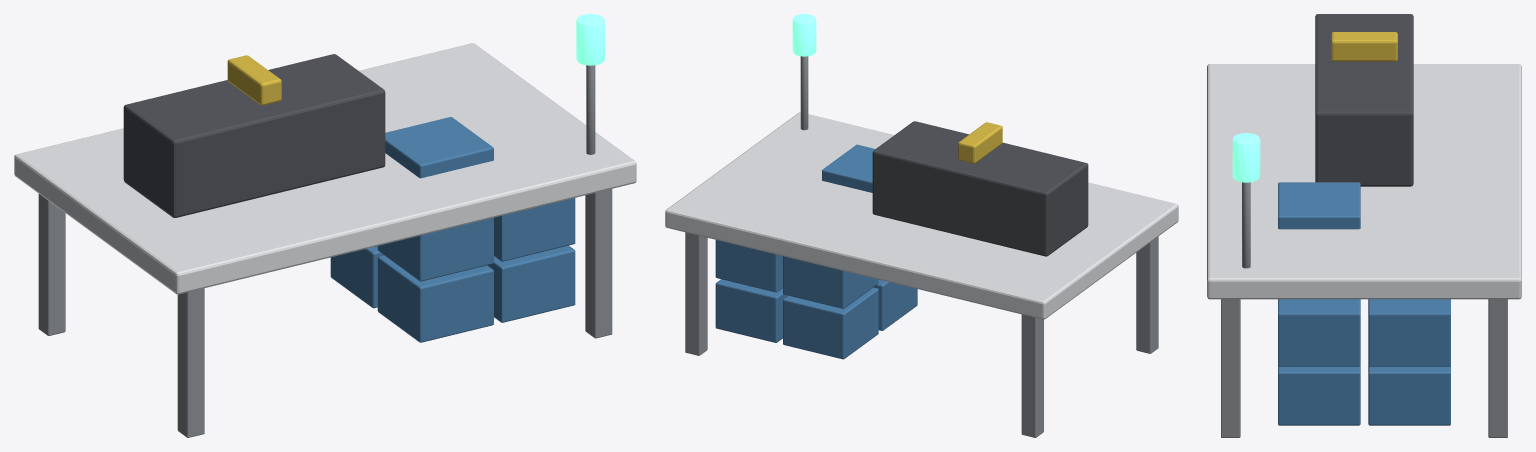
Rendered from packer.glb.
The picture shows the model from 3 angles, left to right: view 1: azimuth 30°, elevation 25°; view 2: azimuth 150°, elevation 25°; view 3: azimuth 270°, elevation 25°; orthographic projection. The views are drawn at different scales.
Visible parts, largest first — view 1: P_EQ_packer_01__table, P_EQ_packer_01__sealer, P_EQ_packer_01__crate_0_0_0, P_EQ_packer_01__crate_0_1_0, P_EQ_packer_01__crate_1_0_0, P_EQ_packer_01__crate_2_0_0, P_EQ_packer_01__tableleg_1, P_EQ_packer_01__tableleg_0, P_EQ_packer_01__crate_1_1_0, P_EQ_packer_01__tableleg_2, P_EQ_packer_01__crate_0_0_1, P_EQ_packer_01__tape_roll (+2 smaller); view 2: P_EQ_packer_01__table, P_EQ_packer_01__sealer, P_EQ_packer_01__crate_0_0_1, P_EQ_packer_01__crate_0_1_1, P_EQ_packer_01__crate_1_0_1, P_EQ_packer_01__tableleg_2, P_EQ_packer_01__tableleg_3, P_EQ_packer_01__crate_1_1_1, P_EQ_packer_01__tableleg_0, P_EQ_packer_01__crate_2_0_0, P_EQ_packer_01__crate_0_0_0, P_EQ_packer_01__tape_roll (+2 smaller); view 3: P_EQ_packer_01__table, P_EQ_packer_01__sealer, P_EQ_packer_01__crate_1_1_0, P_EQ_packer_01__crate_1_1_1, P_EQ_packer_01__crate_0_1_0, P_EQ_packer_01__crate_0_1_1, P_EQ_packer_01__crate_2_0_0, P_EQ_packer_01__tableleg_1, P_EQ_packer_01__tableleg_3, P_EQ_packer_01__tape_roll, P_EQ_packer_01__status_lamp, P_EQ_packer_01__lamp_pole.
Part boxes in pixels (x1,y1,x2,y2): P_EQ_packer_01__table: [14, 43, 636, 294]; P_EQ_packer_01__sealer: [123, 54, 385, 217]; P_EQ_packer_01__crate_0_0_0: [377, 255, 493, 342]; P_EQ_packer_01__crate_0_1_0: [487, 245, 575, 322]; P_EQ_packer_01__crate_1_0_0: [377, 217, 493, 281]; P_EQ_packer_01__crate_2_0_0: [385, 117, 493, 178]; P_EQ_packer_01__tableleg_1: [585, 189, 612, 338]; P_EQ_packer_01__tableleg_0: [177, 288, 204, 437]; P_EQ_packer_01__crate_1_1_0: [494, 198, 575, 261]; P_EQ_packer_01__tableleg_2: [38, 194, 65, 335]; P_EQ_packer_01__crate_0_0_1: [330, 246, 383, 308]; P_EQ_packer_01__tape_roll: [227, 55, 281, 105]; P_EQ_packer_01__table: [665, 112, 1178, 319]; P_EQ_packer_01__sealer: [872, 121, 1088, 256]; P_EQ_packer_01__crate_0_0_1: [783, 287, 878, 359]; P_EQ_packer_01__crate_0_1_1: [715, 279, 787, 342]; P_EQ_packer_01__crate_1_0_1: [783, 256, 878, 308]; P_EQ_packer_01__tableleg_2: [1021, 314, 1043, 437]; P_EQ_packer_01__tableleg_3: [685, 232, 707, 355]; P_EQ_packer_01__crate_1_1_1: [715, 240, 782, 292]; P_EQ_packer_01__tableleg_0: [1136, 236, 1158, 353]; P_EQ_packer_01__crate_2_0_0: [822, 144, 875, 192]; P_EQ_packer_01__crate_0_0_0: [873, 280, 917, 330]; P_EQ_packer_01__tape_roll: [958, 122, 1002, 163]; P_EQ_packer_01__table: [1207, 64, 1521, 299]; P_EQ_packer_01__sealer: [1315, 14, 1413, 186]; P_EQ_packer_01__crate_1_1_0: [1278, 299, 1360, 366]; P_EQ_packer_01__crate_1_1_1: [1368, 299, 1450, 366]; P_EQ_packer_01__crate_0_1_0: [1278, 365, 1360, 425]; P_EQ_packer_01__crate_0_1_1: [1368, 365, 1450, 425]; P_EQ_packer_01__crate_2_0_0: [1278, 182, 1360, 229]; P_EQ_packer_01__tableleg_1: [1221, 299, 1240, 437]; P_EQ_packer_01__tableleg_3: [1488, 299, 1507, 437]; P_EQ_packer_01__tape_roll: [1331, 32, 1397, 61]; P_EQ_packer_01__status_lamp: [1232, 133, 1260, 182]; P_EQ_packer_01__lamp_pole: [1242, 182, 1250, 268].
Bounding box in the file's own units: 2.6 × 1.66 × 1.6.
